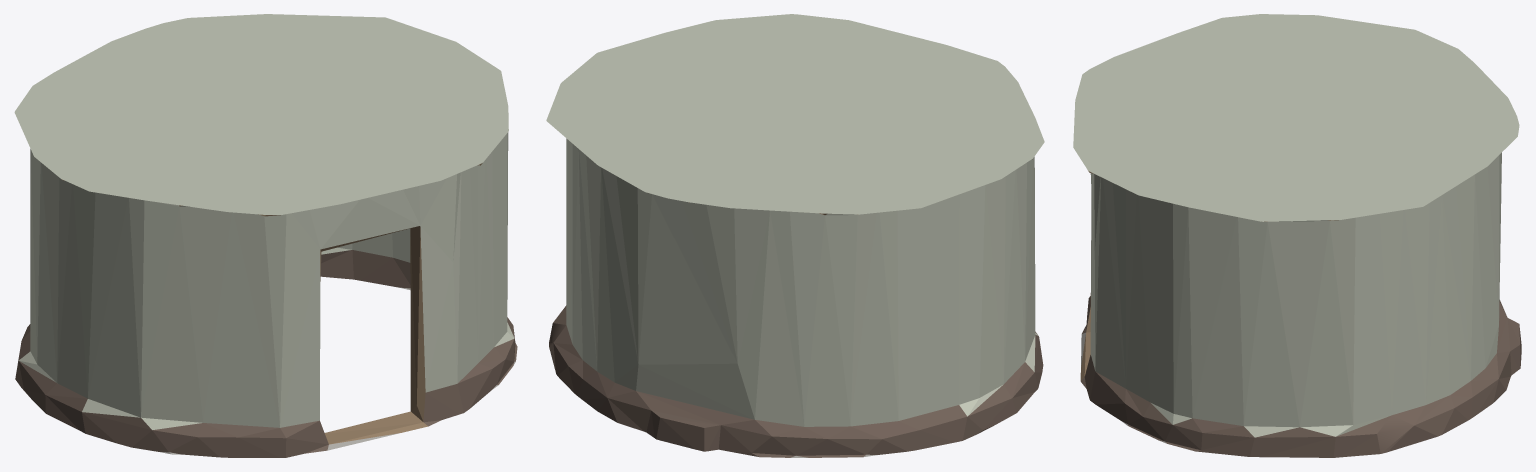
The model's file is etape-1.glb.
3 renders of one model, left to right at view 1: azimuth 30°, elevation 25°; view 2: azimuth 150°, elevation 25°; view 3: azimuth 270°, elevation 25°, orthographic. The views are drawn at different scales.
Visible parts, largest first — view 1: geometry_0; view 2: geometry_0; view 3: geometry_0.
Boxes of the visible parts, bbox=[...] form: geometry_0: bbox=[14, 14, 517, 457]; geometry_0: bbox=[546, 14, 1044, 457]; geometry_0: bbox=[1073, 14, 1521, 457].
Size of the model in its own units: 0.7315 by 0.3907 by 0.6671.
